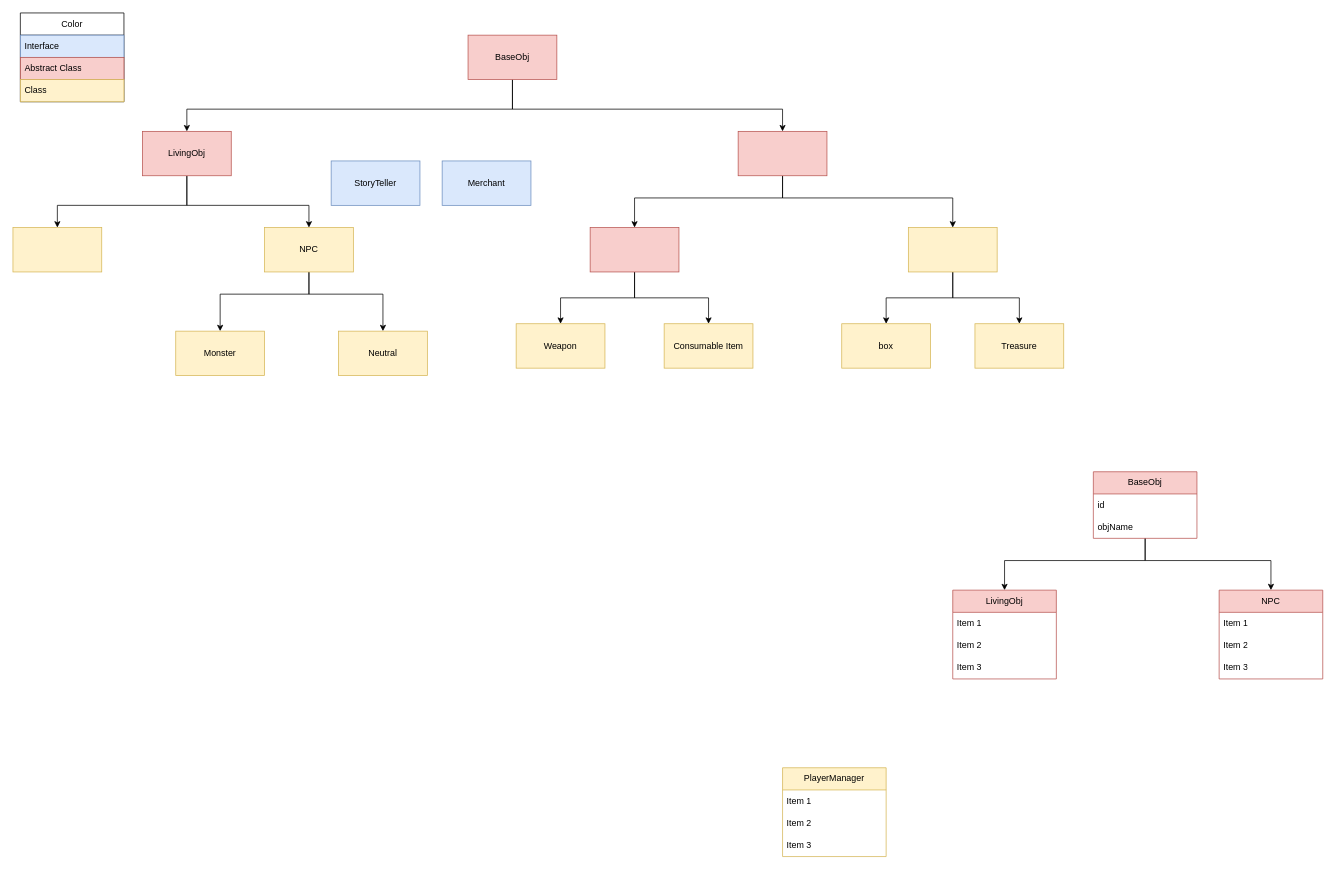
The diagram is 1336 pixels wide and 870 high, and some of its shapes have lost their labels. The shapes that lost their labels are listed below. From the top down, each one's centre as x and y in pixels, then its label:
(x=782, y=153): NonLivingObj
(x=57, y=249): Player
(x=634, y=249): Item
(x=952, y=249): block
